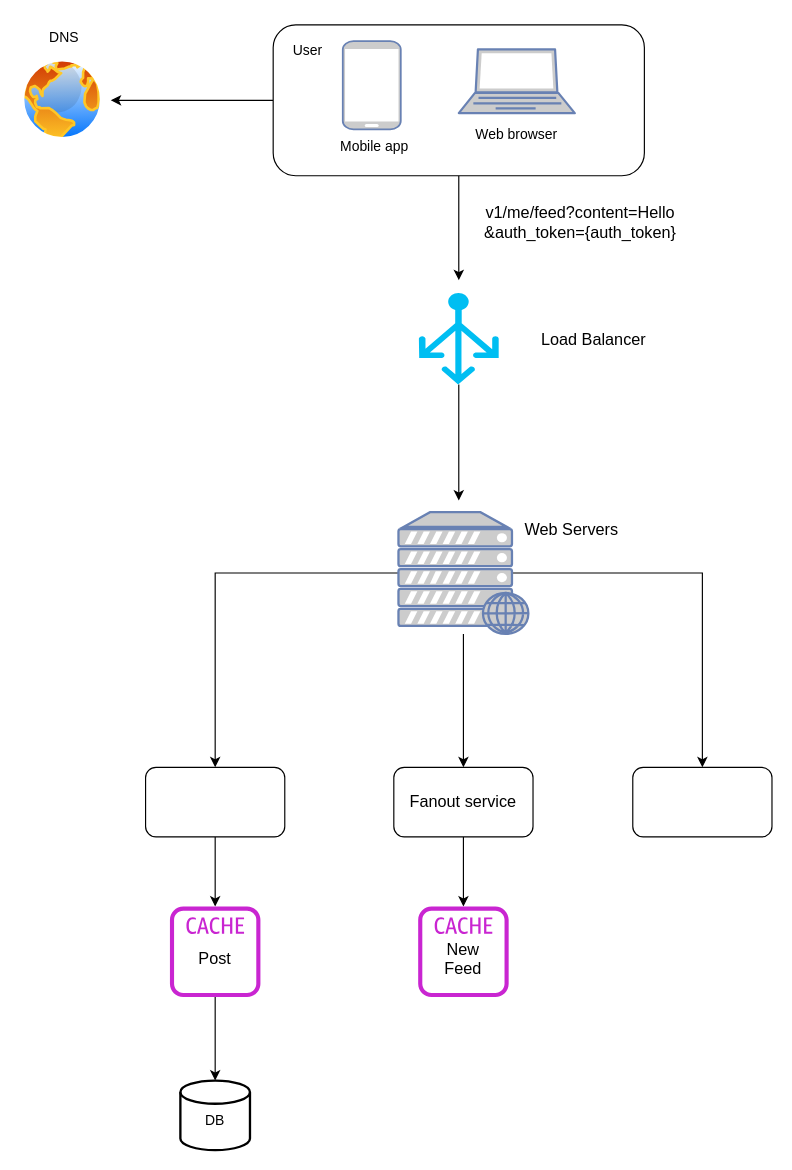
The diagram is 792 pixels wide and 1170 high, and some of its shapes have lost their labels. The centre of each missing label's shape, as x and y in pixels:
Notification service: [702,801]
Post service: [214,801]
